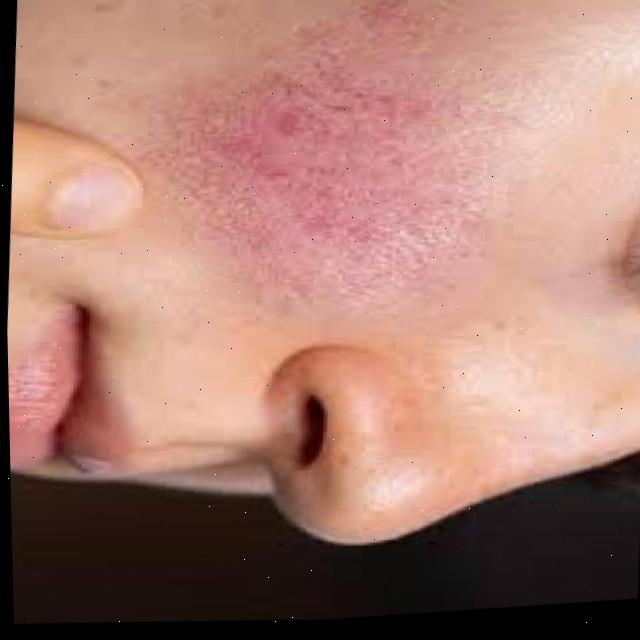Rosacea: (184, 27, 511, 327)
